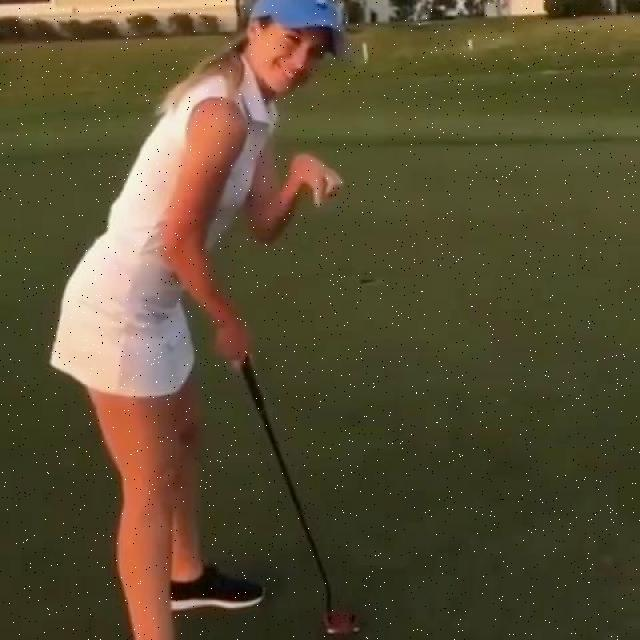ClubHead: (323, 607, 363, 638)
